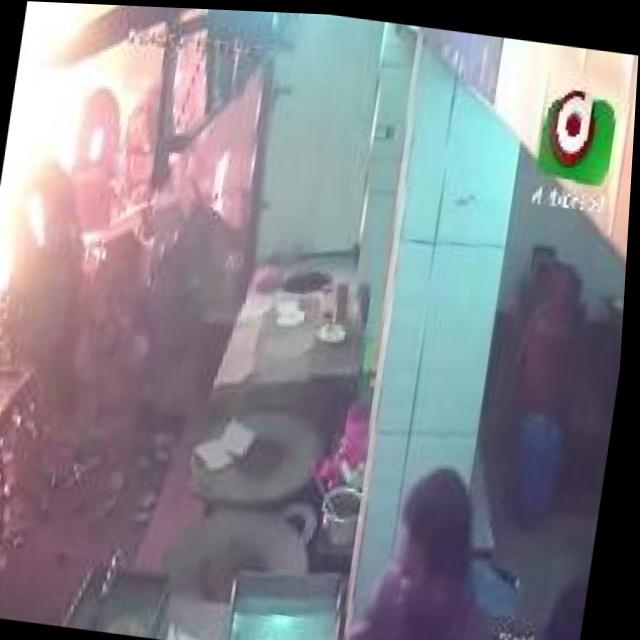fire: (0, 0, 131, 312)
